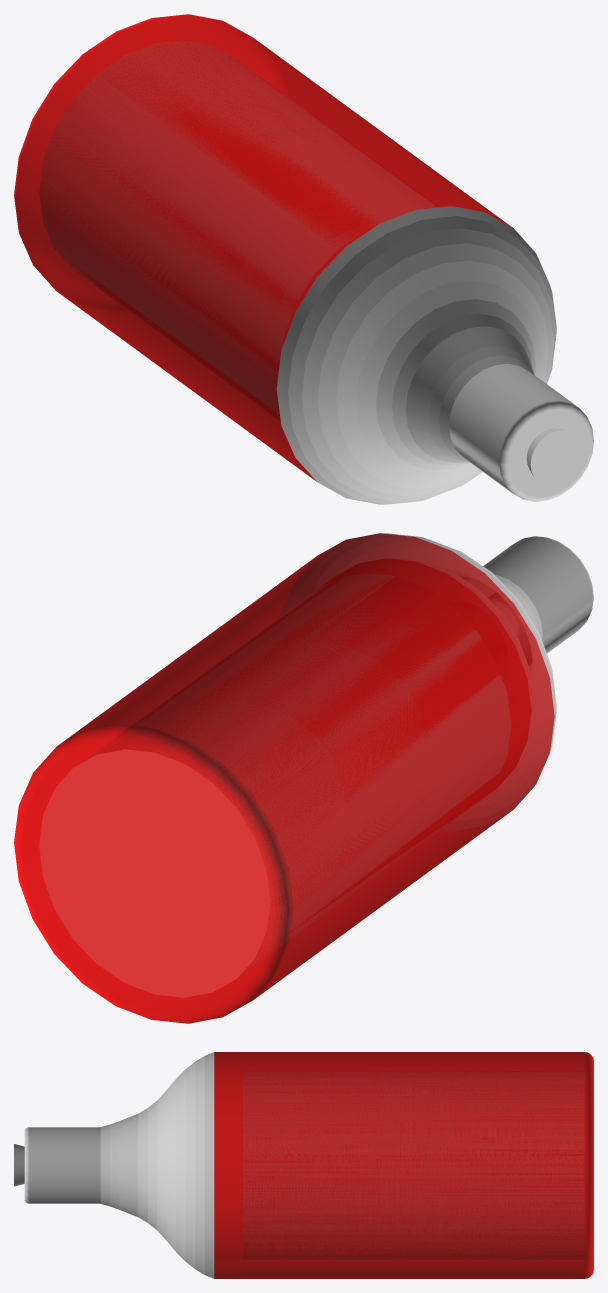
File: model_align.obj
3 renders of one model, top to bottom at view 1: azimuth 30°, elevation 25°; view 2: azimuth 150°, elevation 25°; view 3: azimuth 270°, elevation 25°, orthographic. The views are drawn at different scales.
Visible parts, largest first — view 1: mesh1_mesh1-geometry, mesh3_mesh3-geometry, mesh5_mesh5-geometry, mesh2_mesh2-geometry, mesh4_mesh4-geometry; view 2: mesh1_mesh1-geometry, mesh2_mesh2-geometry, mesh5_mesh5-geometry, mesh3_mesh3-geometry; view 3: mesh1_mesh1-geometry, mesh5_mesh5-geometry, mesh3_mesh3-geometry, mesh2_mesh2-geometry, mesh4_mesh4-geometry.
Part boxes in pixels (bbox=[...]): mesh1_mesh1-geometry: bbox=[14, 14, 512, 481]; mesh3_mesh3-geometry: bbox=[276, 206, 593, 504]; mesh5_mesh5-geometry: bbox=[39, 40, 436, 414]; mesh2_mesh2-geometry: bbox=[83, 86, 437, 420]; mesh4_mesh4-geometry: bbox=[526, 428, 583, 486]; mesh1_mesh1-geometry: bbox=[14, 533, 554, 1023]; mesh2_mesh2-geometry: bbox=[39, 559, 530, 997]; mesh5_mesh5-geometry: bbox=[79, 573, 510, 976]; mesh3_mesh3-geometry: bbox=[281, 533, 593, 831]; mesh1_mesh1-geometry: bbox=[214, 1052, 593, 1278]; mesh5_mesh5-geometry: bbox=[243, 1071, 584, 1259]; mesh3_mesh3-geometry: bbox=[24, 1052, 214, 1278]; mesh2_mesh2-geometry: bbox=[215, 1071, 582, 1259]; mesh4_mesh4-geometry: bbox=[14, 1144, 24, 1186].
Size of the model in its own units: 0.0796 by 0.0796 by 0.2027.
